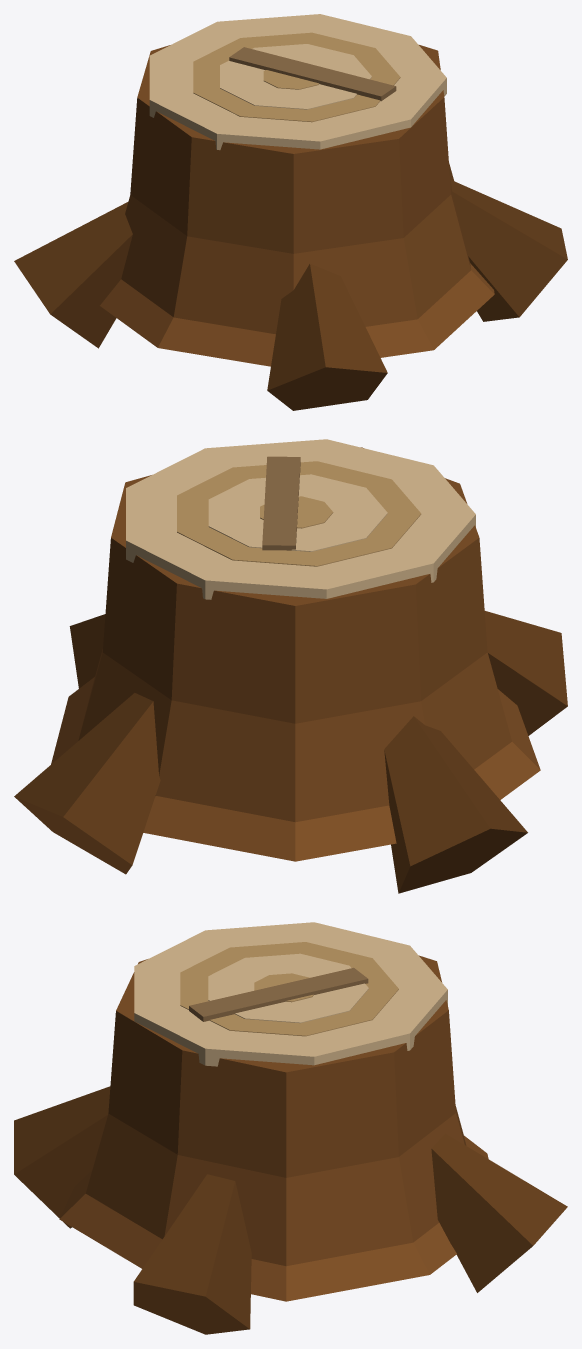
File: stump.glb
3 views of the same model, one above another, from view 1: azimuth 30°, elevation 25°; view 2: azimuth 150°, elevation 25°; view 3: azimuth 270°, elevation 25° (orthographic). The views are drawn at different scales.
Visible parts, largest first — view 1: stump-m; view 2: stump-m; view 3: stump-m.
Boxes of the visible parts, left/top/right/bottom form: stump-m: left=14, top=14, right=567, bottom=410; stump-m: left=14, top=439, right=567, bottom=893; stump-m: left=14, top=922, right=567, bottom=1334.
Size of the model in its own units: 1.47 by 0.7991 by 1.47.
